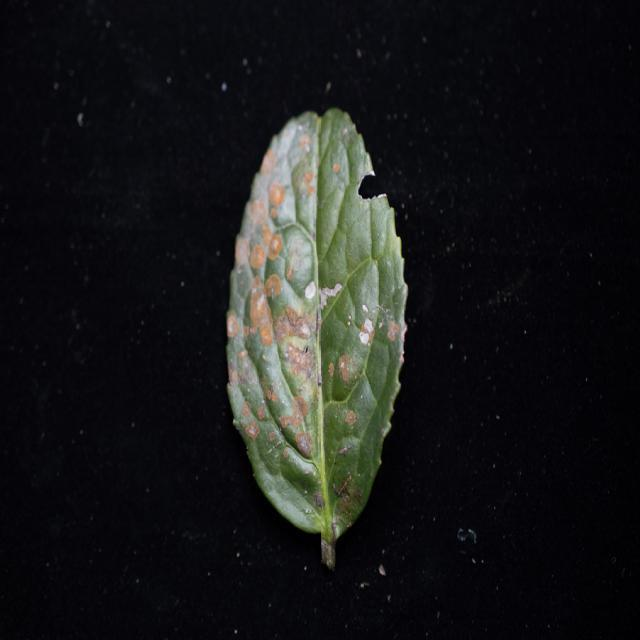Tea red rust: (235, 142, 389, 514)
